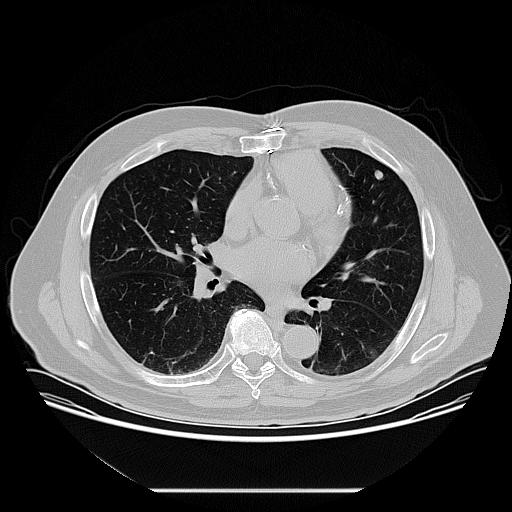nodule: (372, 168, 386, 182)
